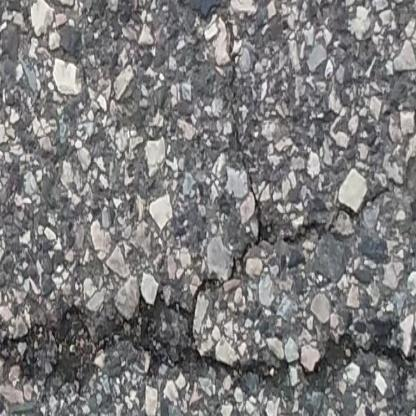Cracks: (0, 222, 416, 390), (211, 0, 248, 166)
